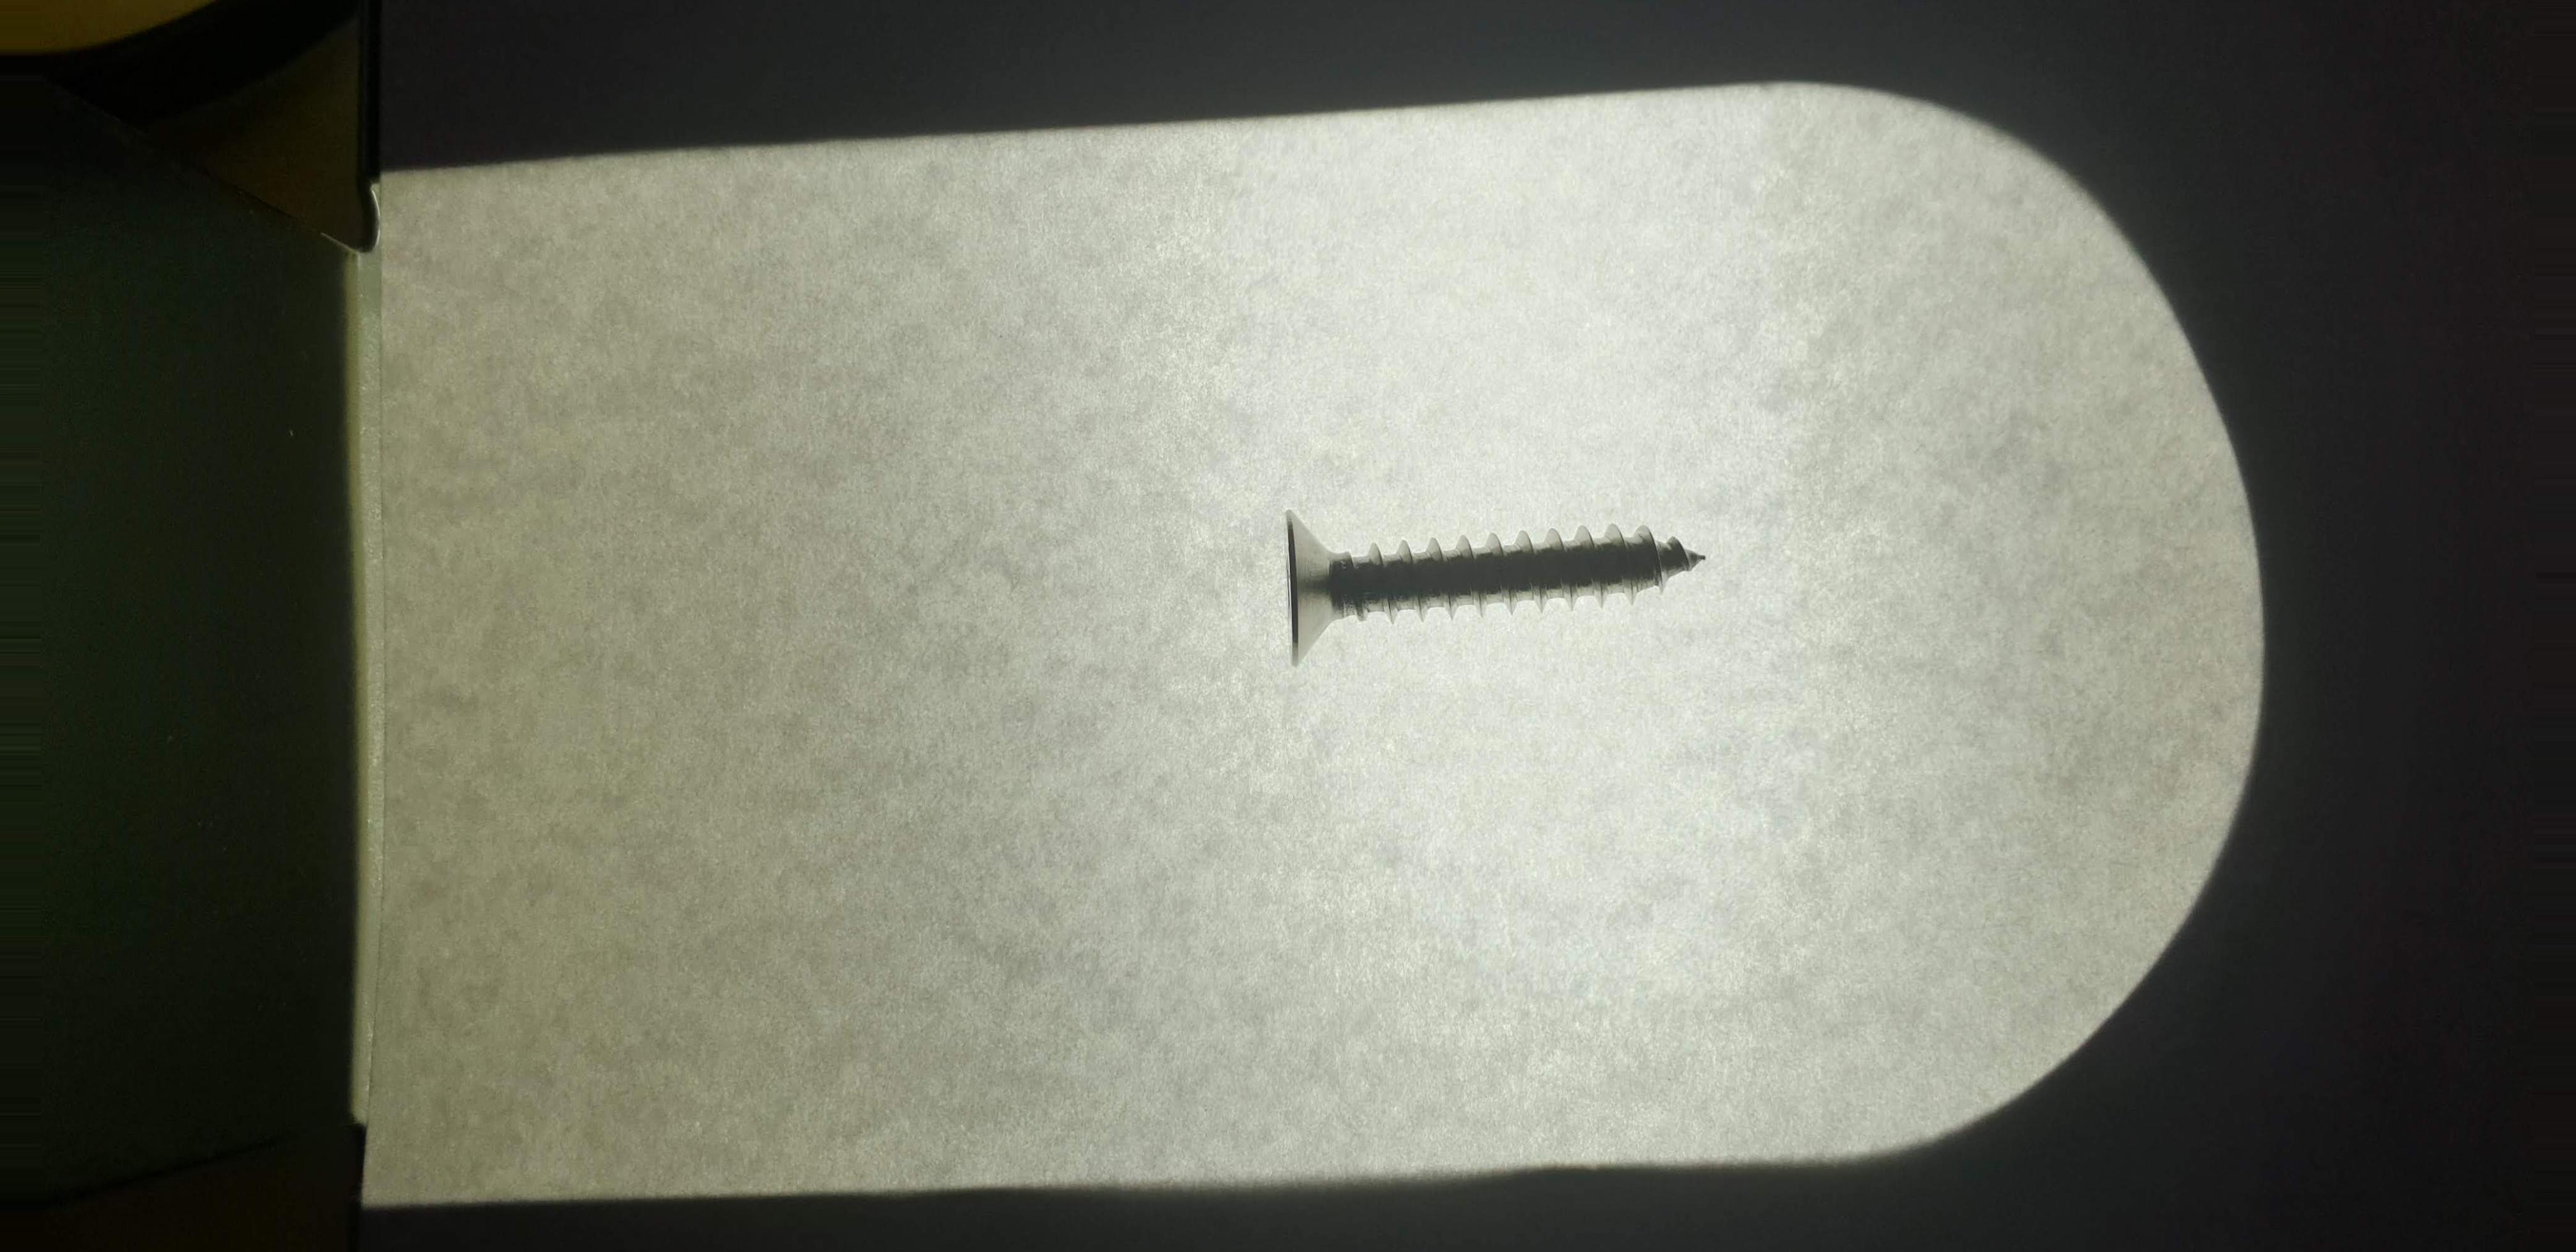S004: (1207, 465, 1756, 693)
